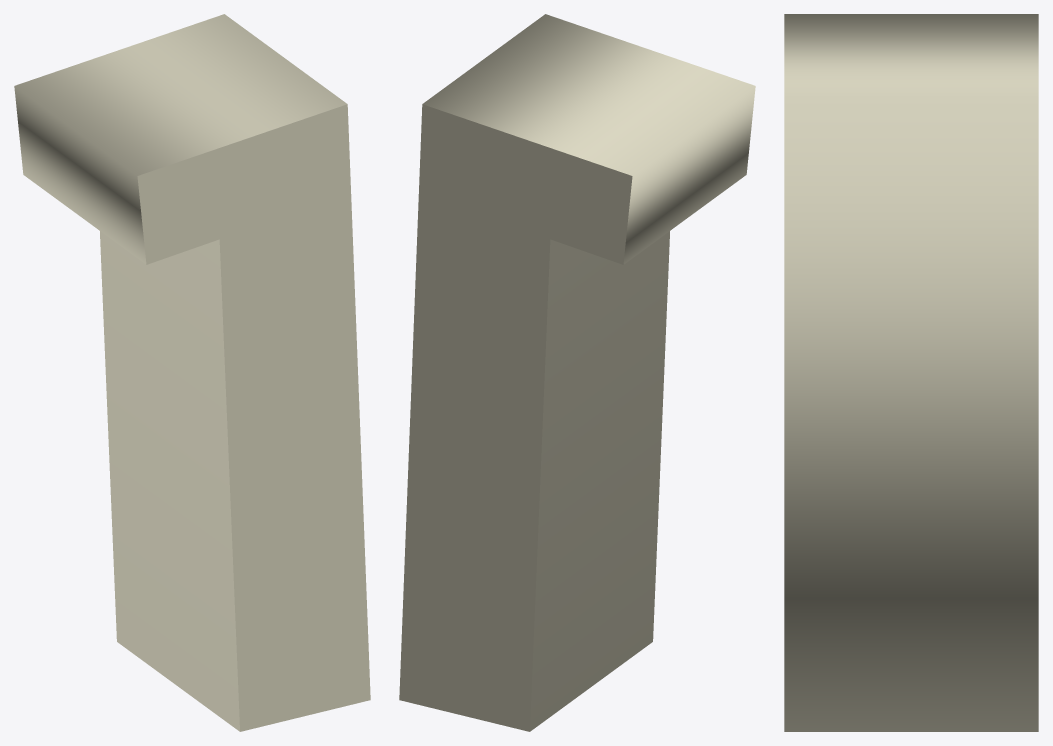
File: Angka1.fbx
The picture shows the model from 3 angles, left to right: view 1: azimuth 30°, elevation 25°; view 2: azimuth 150°, elevation 25°; view 3: azimuth 270°, elevation 25°; orthographic projection. The views are drawn at different scales.
Visible parts, largest first — view 1: M-angka1; view 2: M-angka1; view 3: M-angka1.
Boxes of the visible parts, left/top/right/bottom form: M-angka1: left=14, top=14, right=370, bottom=731; M-angka1: left=399, top=14, right=755, bottom=731; M-angka1: left=784, top=14, right=1038, bottom=731.
Size of the model in its own units: 32.79 by 80.83 by 30.
